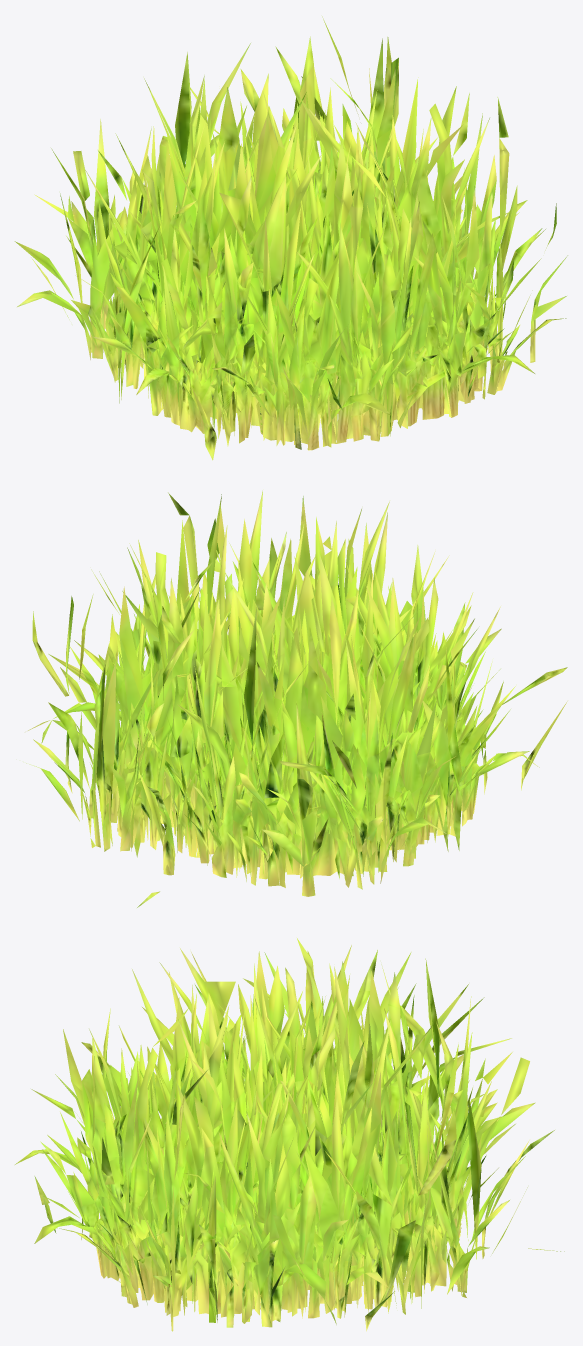
The model's file is rice-stage-3.glb.
3 renders of one model, top to bottom at view 1: azimuth 30°, elevation 25°; view 2: azimuth 150°, elevation 25°; view 3: azimuth 270°, elevation 25°, orthographic. The views are drawn at different scales.
Parts seen in each view (by area): view 1: Mesh_0; view 2: Mesh_0; view 3: Mesh_0.
Boxes of the visible parts, x1,y1,x2,y2 form: Mesh_0: (14,16,567,460); Mesh_0: (26,491,567,907); Mesh_0: (15,938,564,1331).
Bounding box in the file's own units: 0.1579 × 0.1 × 0.1677.
1 material, 1 textured.
